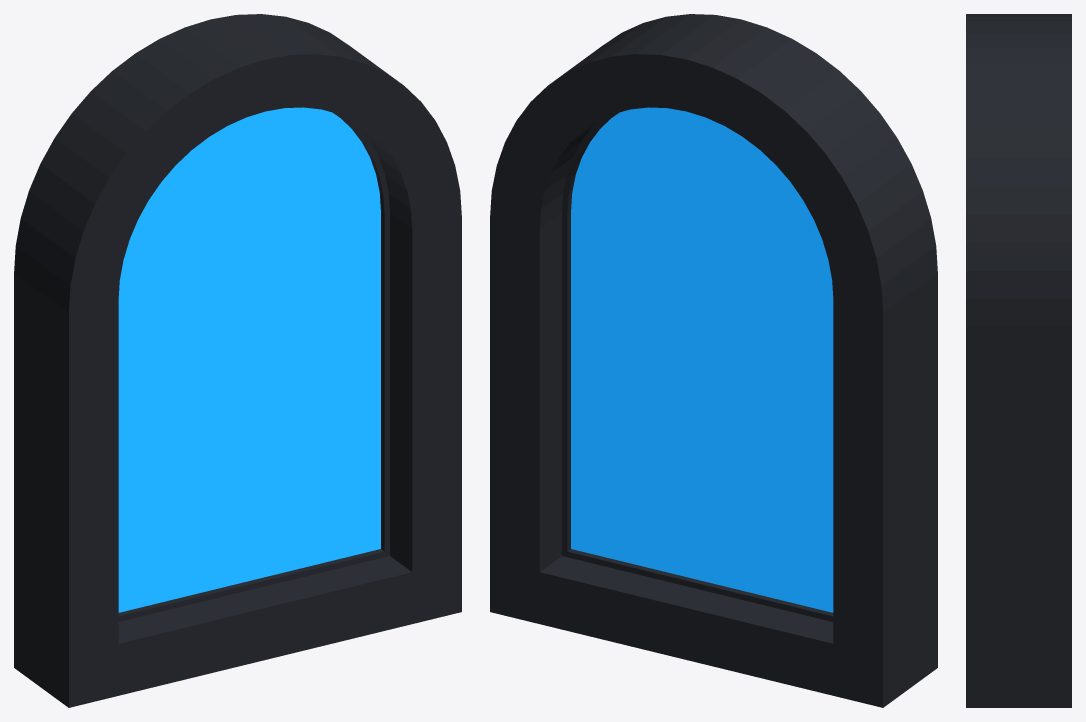
Rendered from janela_arco_inteira_preta.glb.
3 views of the same model, side by side, from view 1: azimuth 30°, elevation 25°; view 2: azimuth 150°, elevation 25°; view 3: azimuth 270°, elevation 25° (orthographic). The views are drawn at different scales.
Visible parts, largest first — view 1: janela_arco_inteira_preta; view 2: janela_arco_inteira_preta; view 3: janela_arco_inteira_preta.
Part boxes in pixels (bbox=[...]): janela_arco_inteira_preta: bbox=[14, 14, 461, 707]; janela_arco_inteira_preta: bbox=[490, 14, 937, 707]; janela_arco_inteira_preta: bbox=[966, 14, 1071, 707].
Size of the model in its own units: 0.87 by 1.27 by 0.21.
